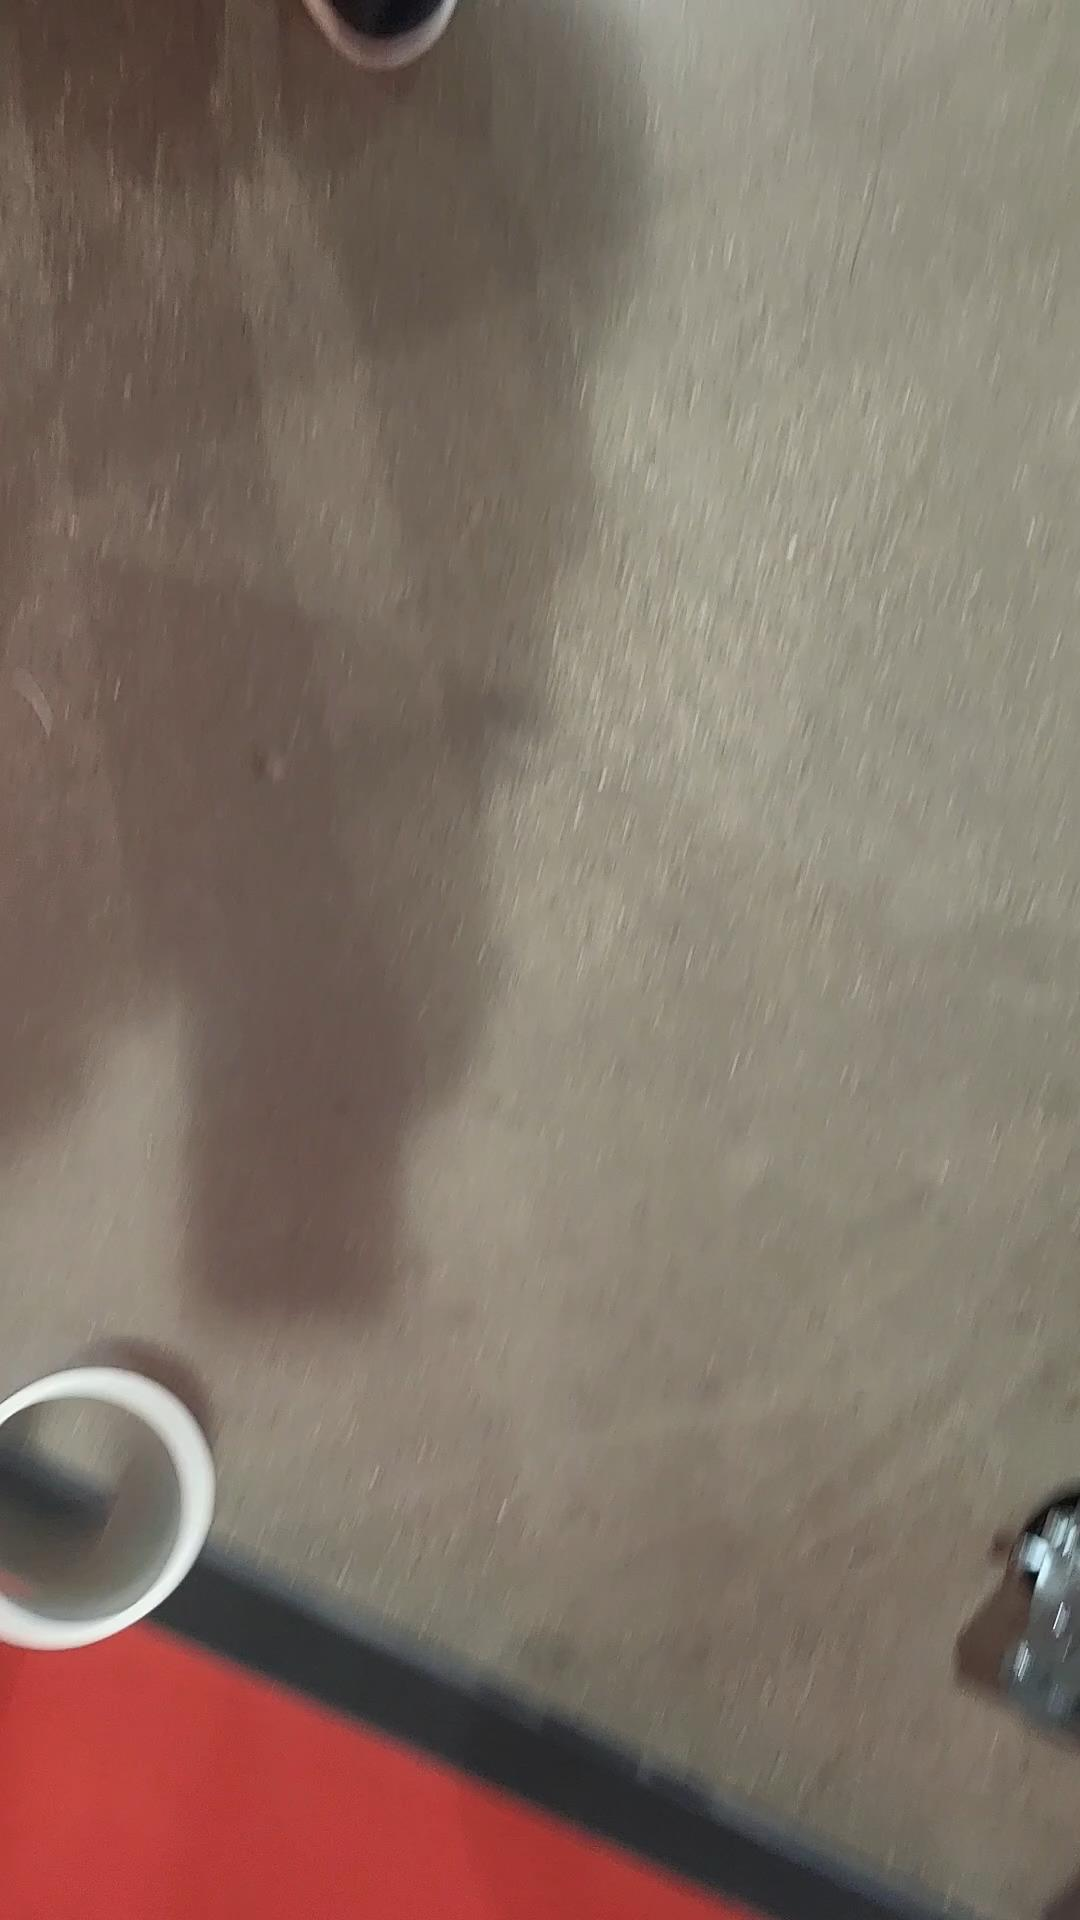coral: (0, 1352, 236, 1667)
